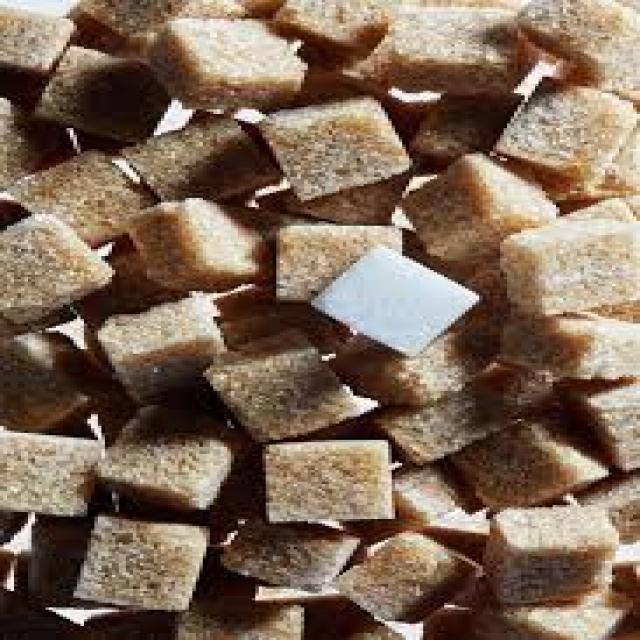organic waste: (0, 0, 637, 638), (304, 240, 476, 354), (200, 326, 374, 437), (88, 393, 242, 510), (109, 111, 284, 212), (486, 72, 637, 186), (385, 356, 556, 456), (496, 193, 636, 310), (108, 191, 276, 284), (255, 96, 409, 196), (0, 144, 154, 244), (136, 11, 301, 104), (342, 0, 514, 88), (395, 158, 553, 252), (28, 42, 168, 147), (329, 531, 479, 626), (444, 419, 605, 507), (66, 510, 203, 607), (98, 288, 220, 396), (479, 503, 612, 600), (255, 431, 395, 519), (0, 209, 108, 321), (214, 512, 354, 591), (336, 321, 476, 400), (0, 328, 105, 428), (496, 307, 636, 382), (273, 219, 402, 298), (63, 240, 178, 324), (511, 0, 636, 77), (339, 463, 465, 535), (0, 421, 94, 514), (406, 91, 528, 158), (269, 0, 395, 61), (273, 170, 409, 221), (0, 95, 73, 188), (468, 598, 636, 638), (66, 0, 200, 47), (168, 594, 308, 638), (577, 380, 637, 472), (273, 594, 392, 638), (0, 5, 70, 70), (574, 470, 636, 538), (430, 542, 490, 610), (412, 605, 476, 638), (608, 538, 636, 596), (563, 198, 637, 219)
